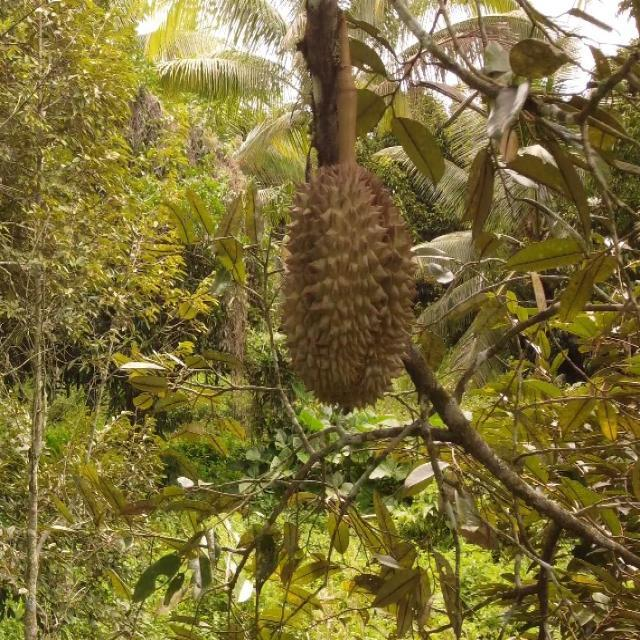mature: (278, 159, 416, 411)
